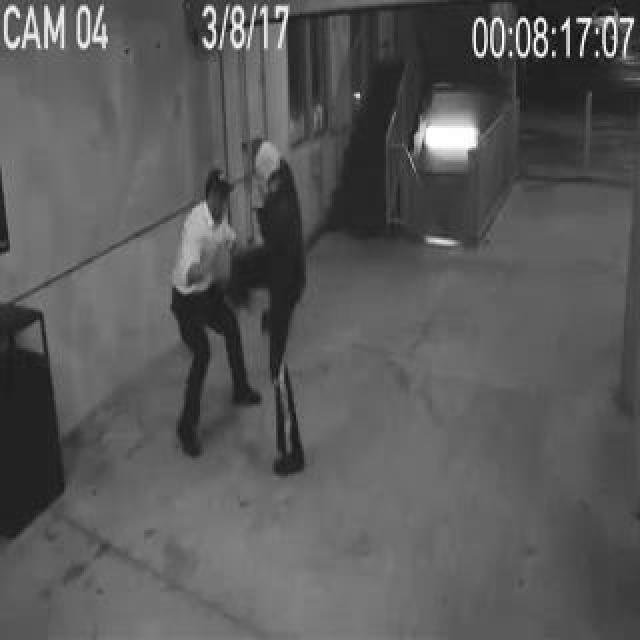fight: (139, 129, 335, 487)
